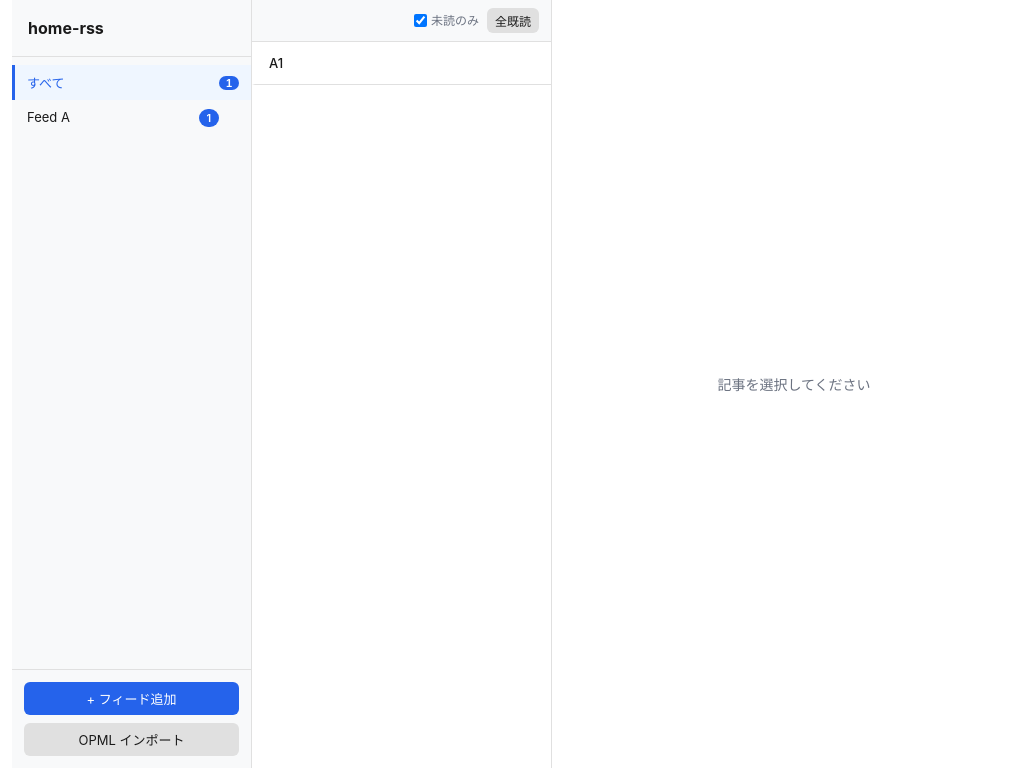
Test: App › marking everything read › changes nothing when the server refuses
Click the button "全既読": click(513, 20) [487,8,539,33]
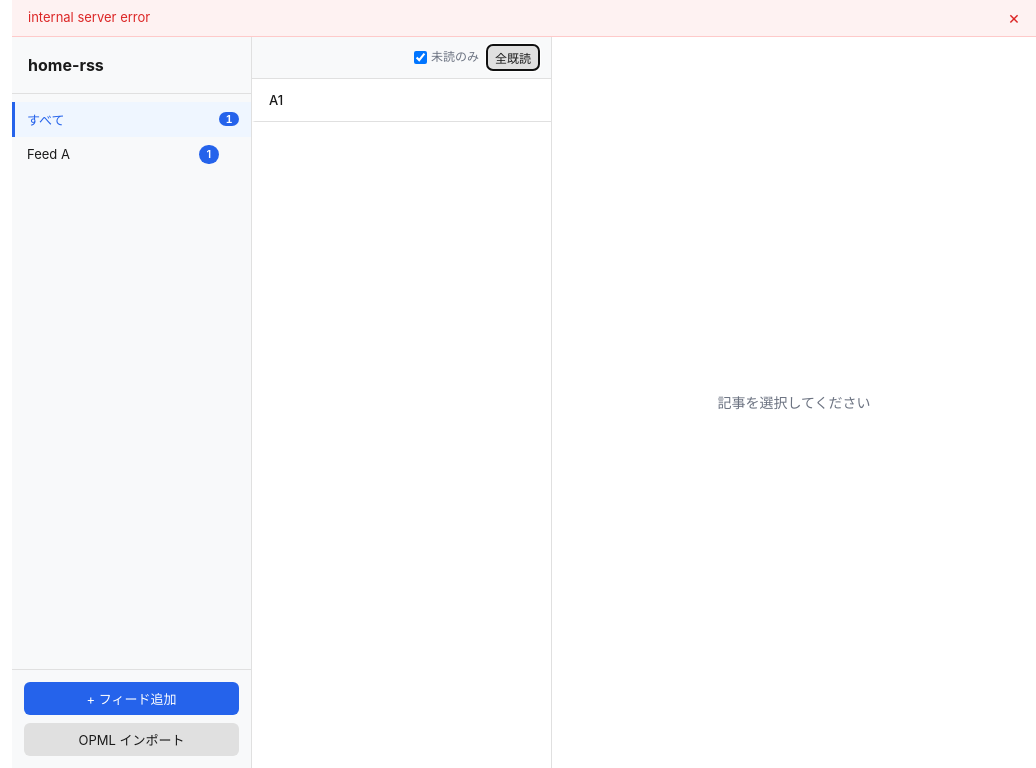
Check: the element with class "error-banner" shows "internal server error", box [28,9,150,25]
